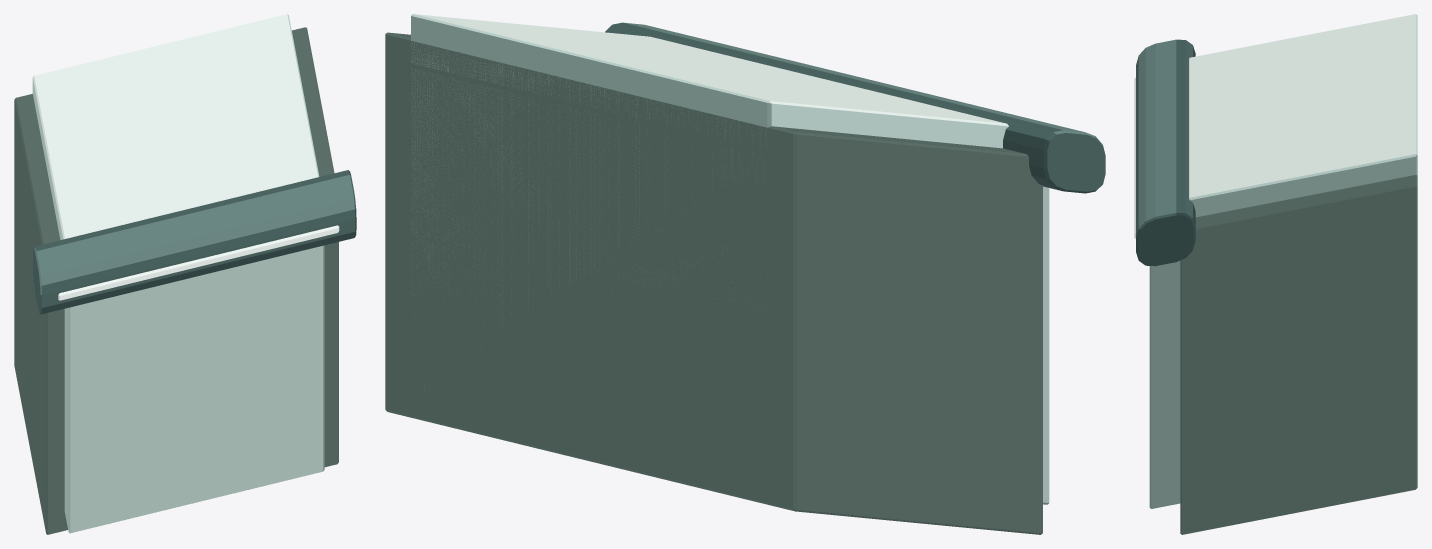
The model's file is Terrain_TopRun1LR.gltf.
3 views of the same model, side by side, from view 1: azimuth 30°, elevation 25°; view 2: azimuth 150°, elevation 25°; view 3: azimuth 270°, elevation 25° (orthographic). The views are drawn at different scales.
Visible parts, largest first — view 1: Terrain_TopRun1LR_baked; view 2: Terrain_TopRun1LR_baked; view 3: Terrain_TopRun1LR_baked.
Part boxes in pixels (x1,y1,x2,y2): Terrain_TopRun1LR_baked: (14, 14, 356, 534); Terrain_TopRun1LR_baked: (385, 14, 1105, 534); Terrain_TopRun1LR_baked: (1134, 14, 1417, 534).
Size of the model in its own units: 1.33 by 1.18 by 0.74.
